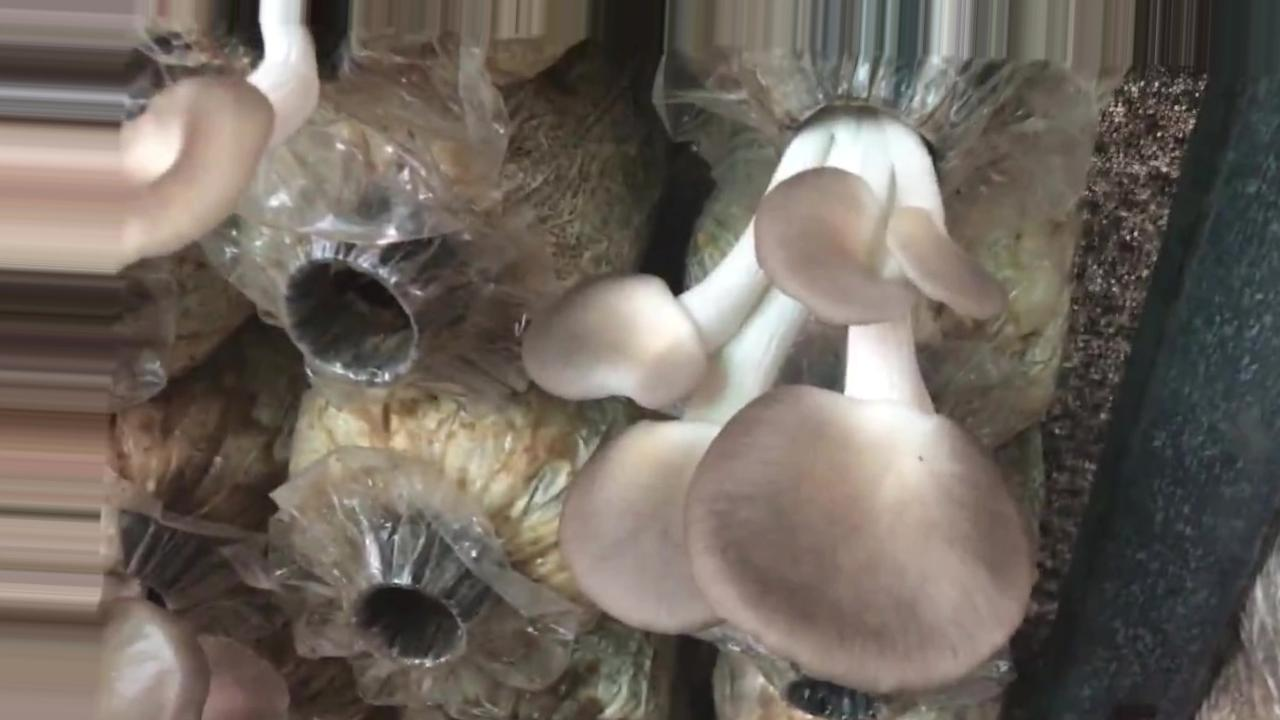nam: (520, 59, 1038, 695), (1, 5, 332, 273), (102, 605, 291, 720)
